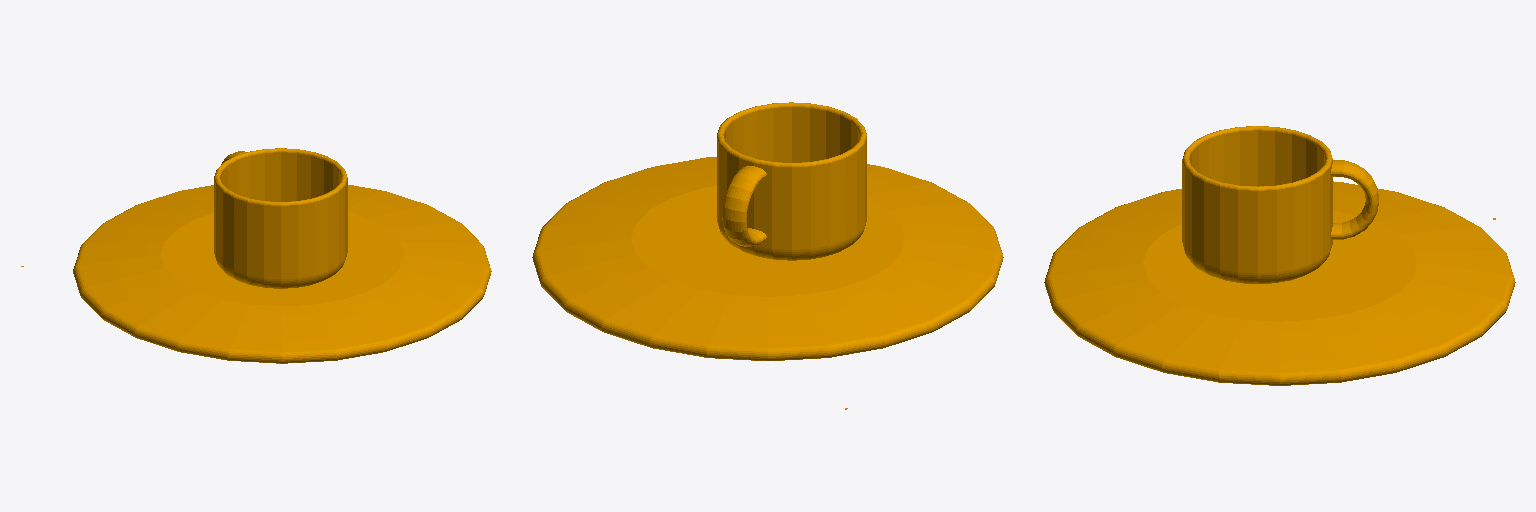
URDF robot description (my_object):
<?xml version="1.0" ?> 
<robot name="my_object">
  <link name="base_link">
  <inertial>
    <mass value="0.01" />
    <origin xyz="0 0 0.0" />
    <inertia  ixx="1.0" ixy="0.0"  ixz="0.0"  iyy="1.0"  iyz="0.0"  izz="1.0" />
  </inertial>
  <visual>
   <origin xyz="0 0 0.0" rpy="0 0 0" />
   <geometry>
     <mesh filename="package://cob_gazebo_objects/Media/models/cupAndPlate.dae" scale="0.1 0.1 0.1" />
   </geometry>
  </visual>
  <collision>
   <origin xyz="0 0 0.0" rpy="0 0 0" />
   <geometry>
     <!--mesh filename="package://cob_gazebo_objects/Media/models/cupAndPlate.dae" scale="0.1 0.1 0.1"-->
   </geometry>
  </collision>     
  </link>

<gazebo>
	<static>true</static>
</gazebo>
</robot>

--- What the picture shows (computed from the rendered views, not written in the file) ---
The picture shows the robot from 3 angles, left to right: view 1: azimuth 30°, elevation 25°; view 2: azimuth 150°, elevation 25°; view 3: azimuth 270°, elevation 25°; orthographic projection.
Model my_object with 1 links and 0 joints (none), rooted at base_link, posed every joint at zero.
Visible links, largest first — view 1: base_link; view 2: base_link; view 3: base_link.
Link boxes in pixels (bbox=[...]): base_link: bbox=[21, 148, 491, 363]; base_link: bbox=[532, 102, 1003, 409]; base_link: bbox=[1044, 126, 1515, 385].
Size in the robot's own frame: 0.003 by 0.003 by 0.001 metres.
1 mesh visuals loaded from 1 distinct referenced files (1 Collada DAE).